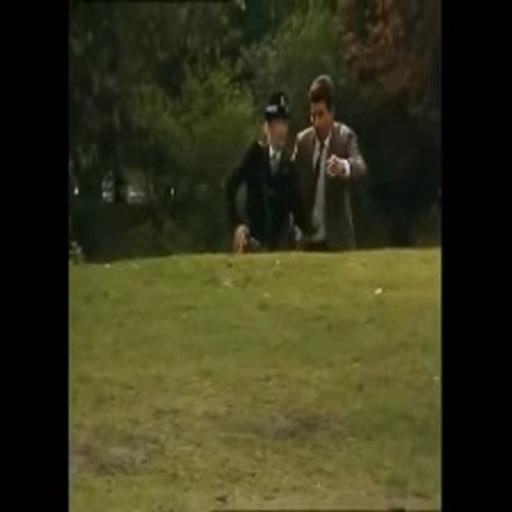nao-violencia: (224, 66, 371, 258)
